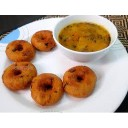vada: (64, 65, 96, 96), (32, 74, 63, 106), (3, 62, 36, 89), (6, 39, 34, 62), (31, 29, 55, 51)
